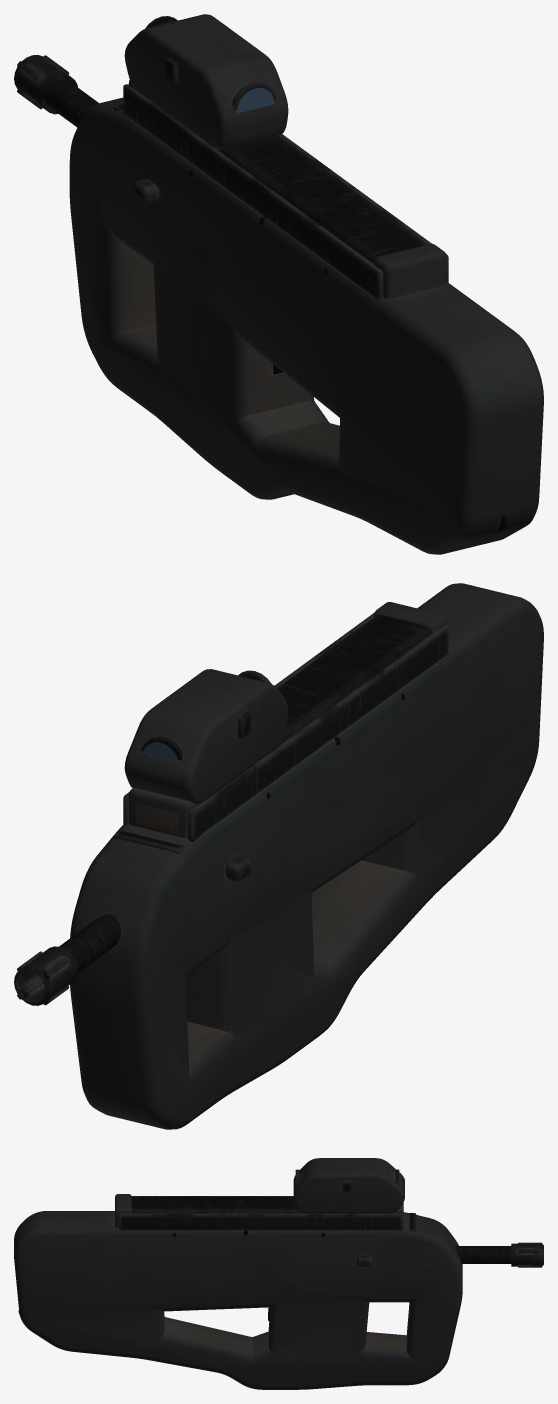
3 renders of one model, top to bottom at view 1: azimuth 30°, elevation 25°; view 2: azimuth 150°, elevation 25°; view 3: azimuth 270°, elevation 25°, orthographic. The views are drawn at different scales.
Parts seen in each view (by area): view 1: body_furniture, body_receiver, mag_receiver, mag_furniture; view 2: body_furniture, body_receiver, mag_receiver, mag_furniture; view 3: body_furniture, body_receiver, mag_receiver, mag_furniture.
Part boxes in pixels (x1,y1,x2,y2): body_furniture: (69,14,543,554); body_receiver: (14,16,448,299); mag_receiver: (217,135,426,263); mag_furniture: (128,80,446,298); body_furniture: (70,583,543,1129); body_receiver: (14,613,448,1005); mag_receiver: (166,615,432,832); mag_furniture: (128,602,446,838); body_furniture: (14,1158,462,1389); body_receiver: (119,1169,543,1267); mag_receiver: (131,1196,303,1213); mag_furniture: (115,1194,403,1227).
Size of the model in its own units: 0.08 by 0.276 by 0.6151.
8 materials, 7 textured.
